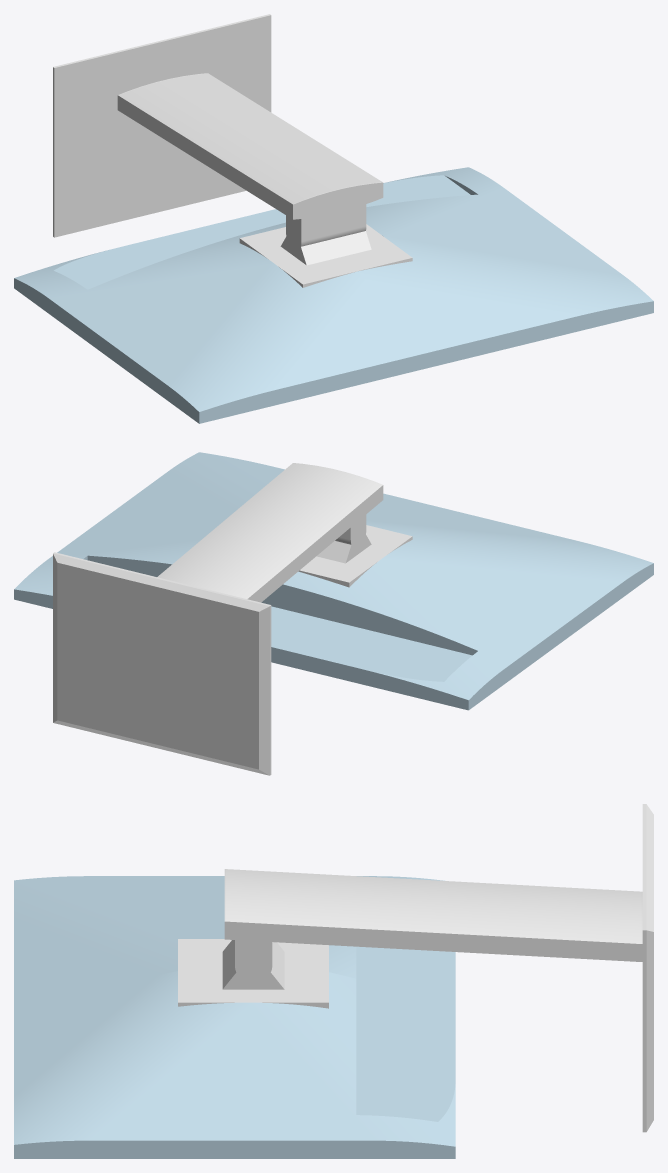
File: monitor.gltf
3 views of the same model, one above another, from view 1: azimuth 30°, elevation 25°; view 2: azimuth 150°, elevation 25°; view 3: azimuth 270°, elevation 25° (orthographic). The views are drawn at different scales.
Parts seen in each view (by area): view 1: Part 1, Part 4; view 2: Part 1, Part 4; view 3: Part 1, Part 4.
Part boxes in pixels (x1,y1,x2,y2): Part 1: (14, 167, 653, 423); Part 4: (53, 14, 412, 287); Part 1: (14, 452, 653, 710); Part 4: (53, 463, 412, 775); Part 1: (14, 876, 455, 1158); Part 4: (178, 804, 653, 1132).
Bounding box in the file's own units: 0.5038 × 0.1795 × 0.5151.
